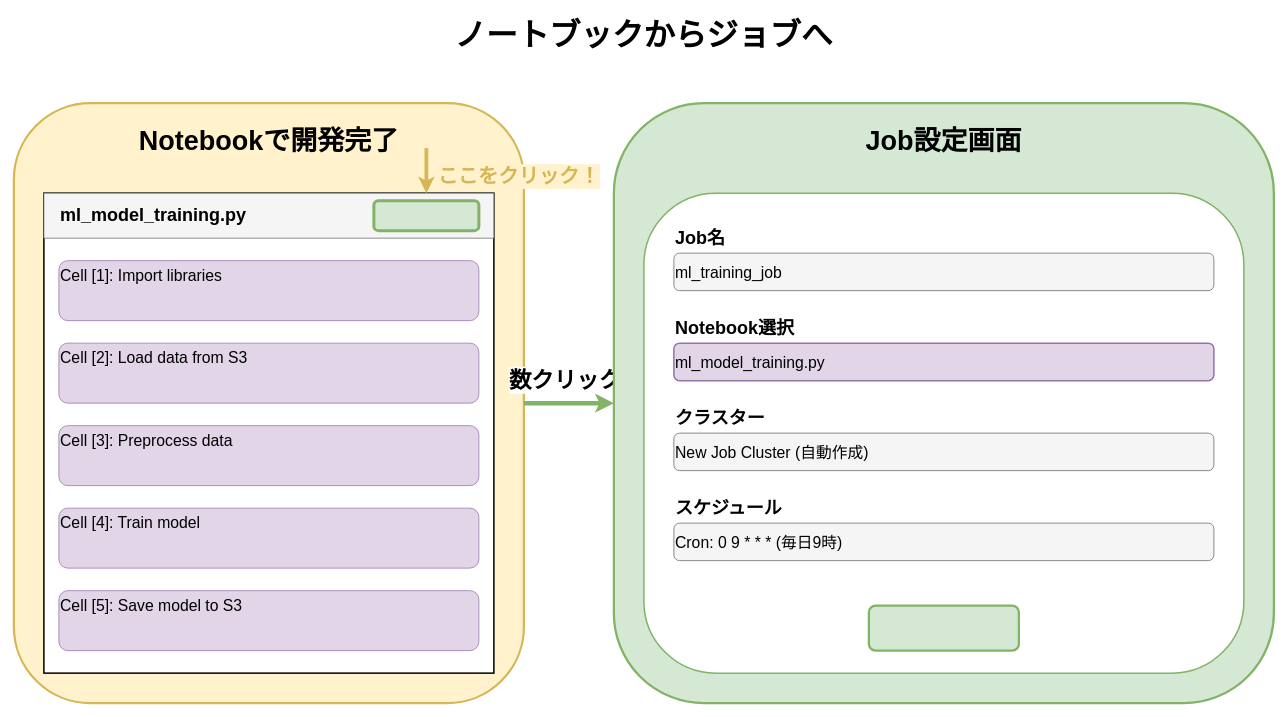
Image size: 1288x717. Some labels were removed from this diagram. Each missing label, with the centre of its shape:
"Create" goes at point 943,627.
"Create Job" goes at point 426,215.
